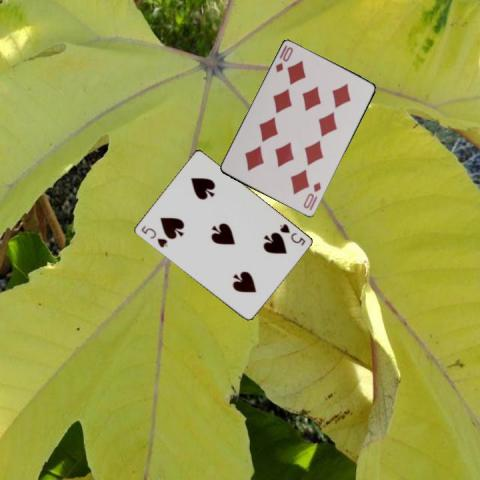10d: (300, 179, 323, 210), (272, 42, 294, 74)
5s: (138, 223, 169, 249), (276, 221, 307, 247)
